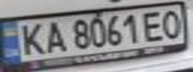0: (87, 16, 109, 48)
1: (118, 11, 142, 44)
6: (106, 12, 127, 46)
8: (69, 16, 90, 51)
A: (39, 19, 69, 53)
E: (139, 8, 169, 42)
K: (15, 20, 48, 56)
O: (157, 7, 187, 39)
